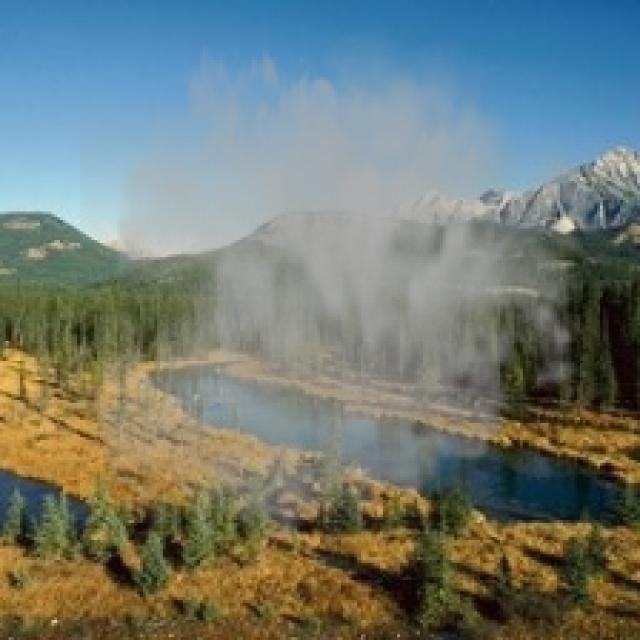smoke: (80, 8, 614, 563)
